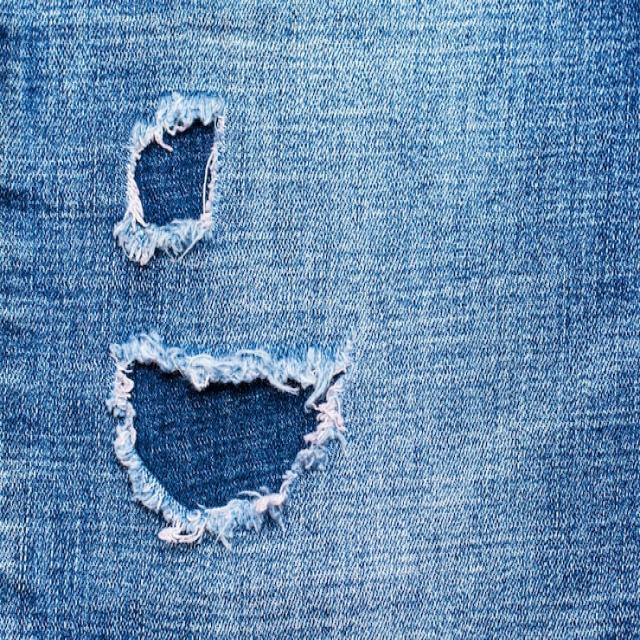Hole: (107, 334, 352, 548), (113, 92, 224, 266)
